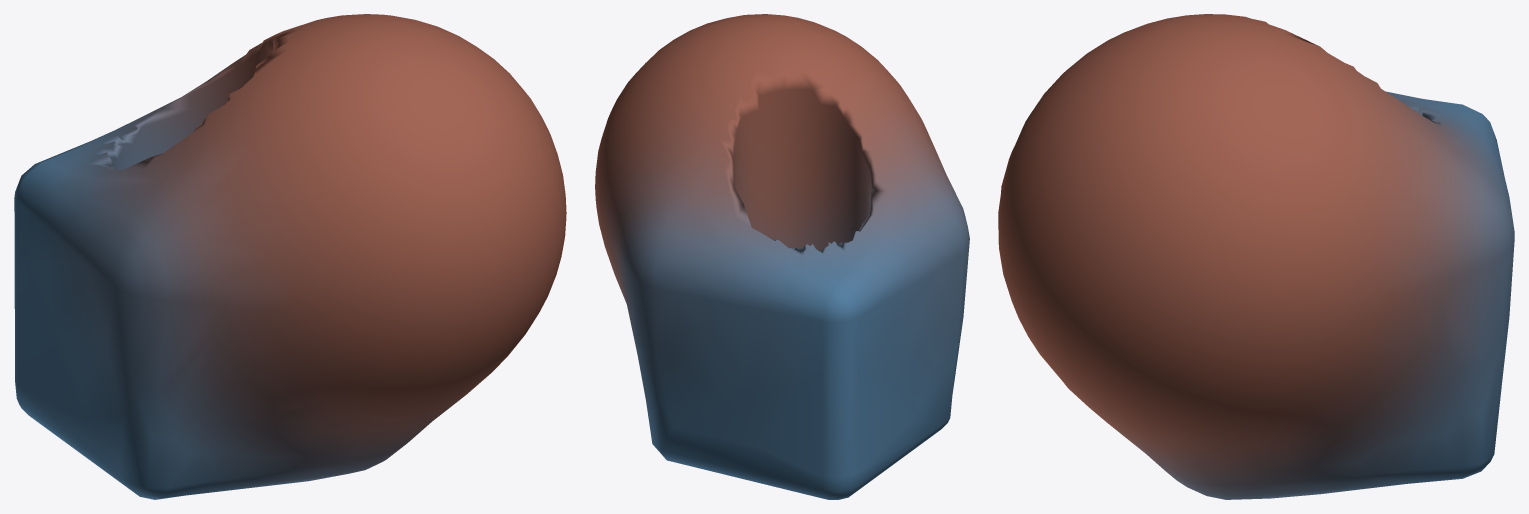
3 renders of one model, left to right at view 1: azimuth 30°, elevation 25°; view 2: azimuth 150°, elevation 25°; view 3: azimuth 270°, elevation 25°, orthographic. The views are drawn at different scales.
Visible parts, largest first — view 1: claycore; view 2: claycore; view 3: claycore.
Boxes of the visible parts, bbox=[...] form: claycore: bbox=[14, 14, 566, 499]; claycore: bbox=[595, 14, 969, 499]; claycore: bbox=[998, 14, 1514, 499].
Size of the model in its own units: 2.07 by 2.07 by 2.07.
